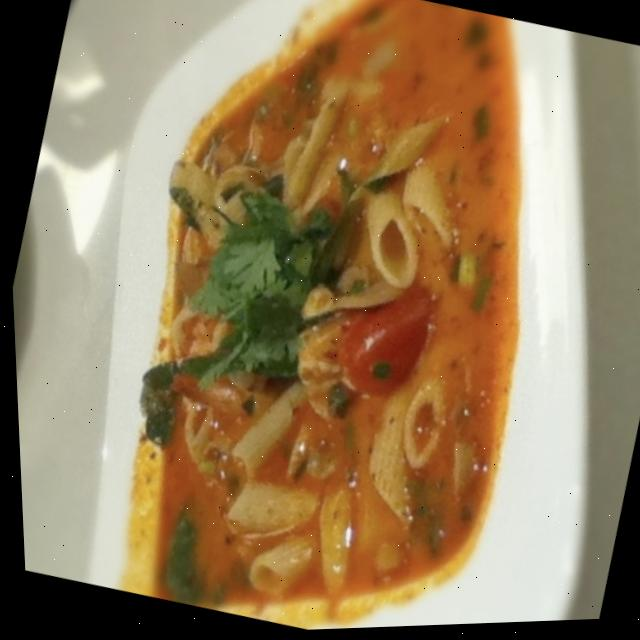汤锅炖物: (30, 0, 609, 639)
